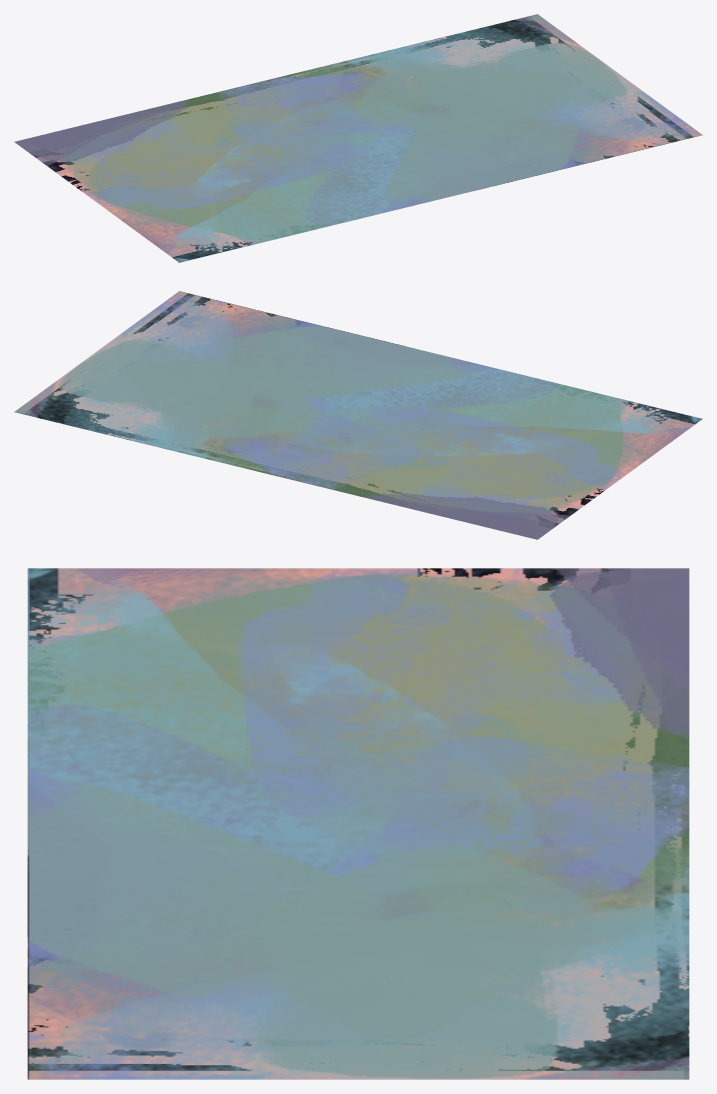
The model's file is S_BrushStroke_BlueLarge.fbx.
3 views of the same model, one above another, from view 1: azimuth 30°, elevation 25°; view 2: azimuth 150°, elevation 25°; view 3: azimuth 270°, elevation 25° (orthographic). The views are drawn at different scales.
Visible parts, largest first — view 1: S_BrushStroke_BlueLarge; view 2: S_BrushStroke_BlueLarge; view 3: S_BrushStroke_BlueLarge.
Boxes of the visible parts, x1,y1,x2,y2 form: S_BrushStroke_BlueLarge: (14,14,702,262); S_BrushStroke_BlueLarge: (14,291,702,539); S_BrushStroke_BlueLarge: (27,568,689,1079).
Size of the model in its own units: 1.56 by 2.22e-16 by 0.8524.
